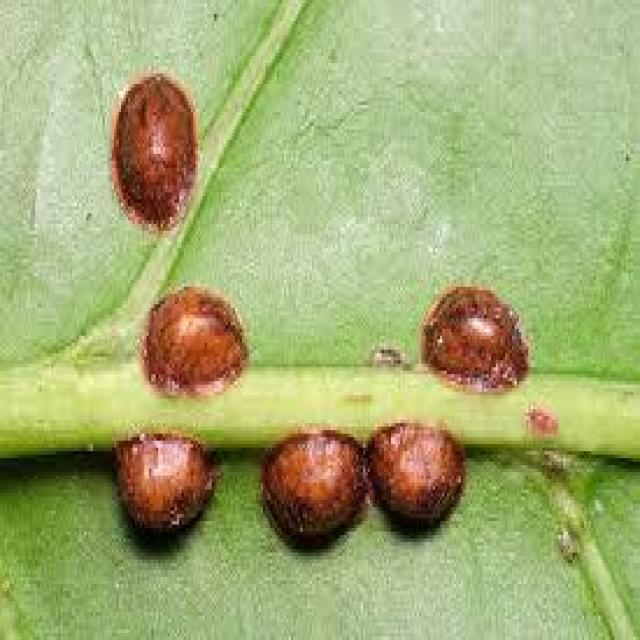Black Scale: (263, 423, 463, 546), (112, 70, 198, 231), (114, 434, 214, 549), (421, 287, 528, 388), (142, 290, 247, 392)
